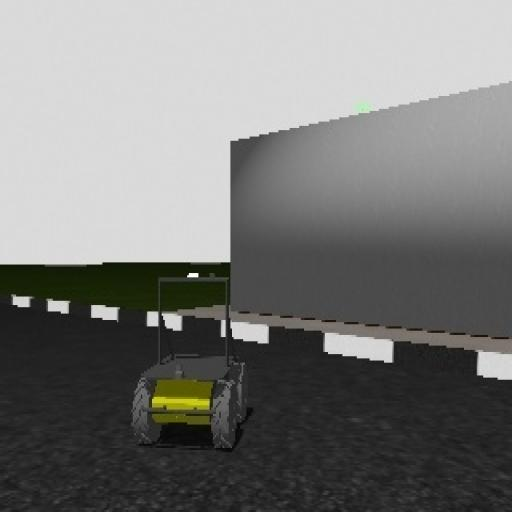huskya200: (112, 262, 252, 471)
